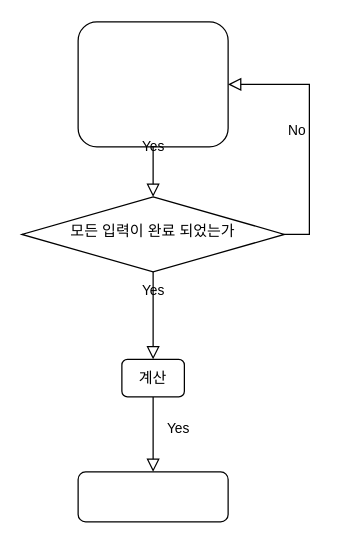
Image size: 344x544. Some labels were removed from this diagram. Each missing label, with the centre of its shape:
콘솔에 출력: the point at 152,496
현재 연도, 내가 태어난 연도, 현재 달, 내가 태어난 달 입력해 주세요: the point at 152,84
